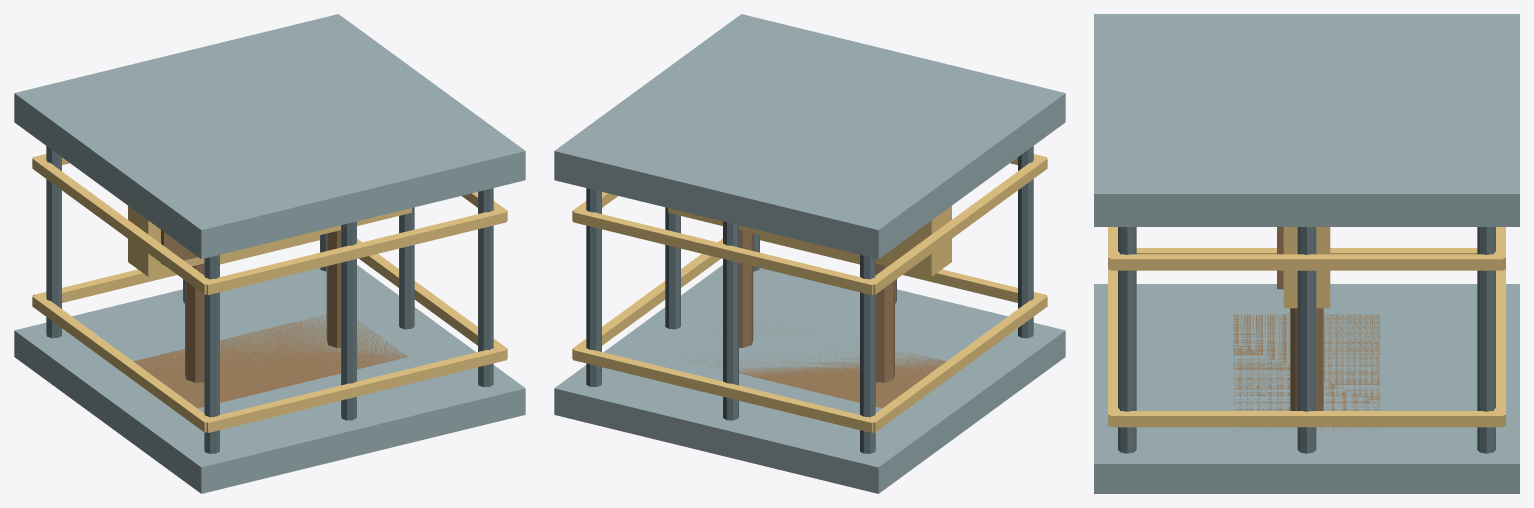
Rendered from corner-signs.glb.
3 renders of one model, left to right at view 1: azimuth 30°, elevation 25°; view 2: azimuth 150°, elevation 25°; view 3: azimuth 270°, elevation 25°, orthographic. The views are drawn at different scales.
Visible parts, largest first — view 1: Cage_Roof, Cage_Base, Start_Base, Cage_Rail.002, Cage_Rail, Cage_Side_Rail, Cage_Side_Rail.002, Cage_Bar.002, Cage_Bar.004, Cage_Bar, Cage_Bar.001, Start_Plaque (+5 smaller); view 2: Cage_Roof, Cage_Base, Start_Base, Cage_Rail.003, Cage_Rail.001, Cage_Side_Rail, Cage_Side_Rail.002, Start_Plaque, Cage_Bar.003, Cage_Bar.005, Cage_Bar.001, Cage_Bar (+5 smaller); view 3: Cage_Roof, Cage_Base, Start_Base, Cage_Side_Rail.001, Cage_Side_Rail.003, Cage_Side_Bar.002, Cage_Bar.004, Cage_Bar.005, Cage_Side_Rail, Start_Plaque, Start_Post.001, Cage_Rail.001 (+1 smaller).
Part boxes in pixels (x1,y1,x2,y2): Cage_Roof: [14, 14, 525, 259]; Cage_Base: [14, 265, 525, 493]; Start_Base: [133, 314, 407, 408]; Cage_Rail.002: [203, 208, 506, 294]; Cage_Rail: [203, 346, 506, 432]; Cage_Side_Rail: [32, 294, 212, 432]; Cage_Side_Rail.002: [32, 156, 209, 294]; Cage_Bar.002: [341, 221, 356, 420]; Cage_Bar.004: [478, 188, 493, 386]; Cage_Bar: [204, 255, 219, 453]; Cage_Bar.001: [46, 146, 61, 338]; Start_Plaque: [128, 206, 411, 276]; Cage_Roof: [554, 14, 1065, 259]; Cage_Base: [554, 265, 1065, 493]; Start_Base: [685, 322, 946, 408]; Cage_Rail.003: [573, 208, 876, 294]; Cage_Rail.001: [573, 346, 876, 432]; Cage_Side_Rail: [869, 294, 1047, 432]; Cage_Side_Rail.002: [868, 156, 1047, 294]; Start_Plaque: [668, 206, 951, 276]; Cage_Bar.003: [723, 221, 738, 420]; Cage_Bar.005: [586, 188, 601, 386]; Cage_Bar.001: [860, 255, 875, 453]; Cage_Bar: [1018, 146, 1033, 338]; Cage_Roof: [1094, 14, 1519, 226]; Cage_Base: [1094, 284, 1519, 493]; Start_Base: [1233, 314, 1380, 431]; Cage_Side_Rail.001: [1110, 411, 1503, 427]; Cage_Side_Rail.003: [1110, 254, 1503, 270]; Cage_Side_Bar.002: [1297, 227, 1316, 453]; Cage_Bar.004: [1118, 227, 1136, 453]; Cage_Bar.005: [1477, 227, 1495, 453]; Cage_Side_Rail: [1136, 248, 1477, 254]; Start_Plaque: [1283, 227, 1330, 308]; Start_Post.001: [1290, 308, 1323, 410]; Cage_Rail.001: [1494, 269, 1505, 426].
Size of the model in its own units: 0.64 by 0.4975 by 0.64.
